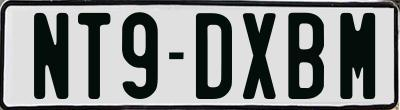9: (122, 12, 163, 104)
B: (285, 10, 322, 99)
D: (194, 13, 236, 105)
M: (340, 12, 376, 100)
N: (33, 11, 67, 99)
T: (77, 11, 110, 98)
X: (240, 13, 278, 105)
